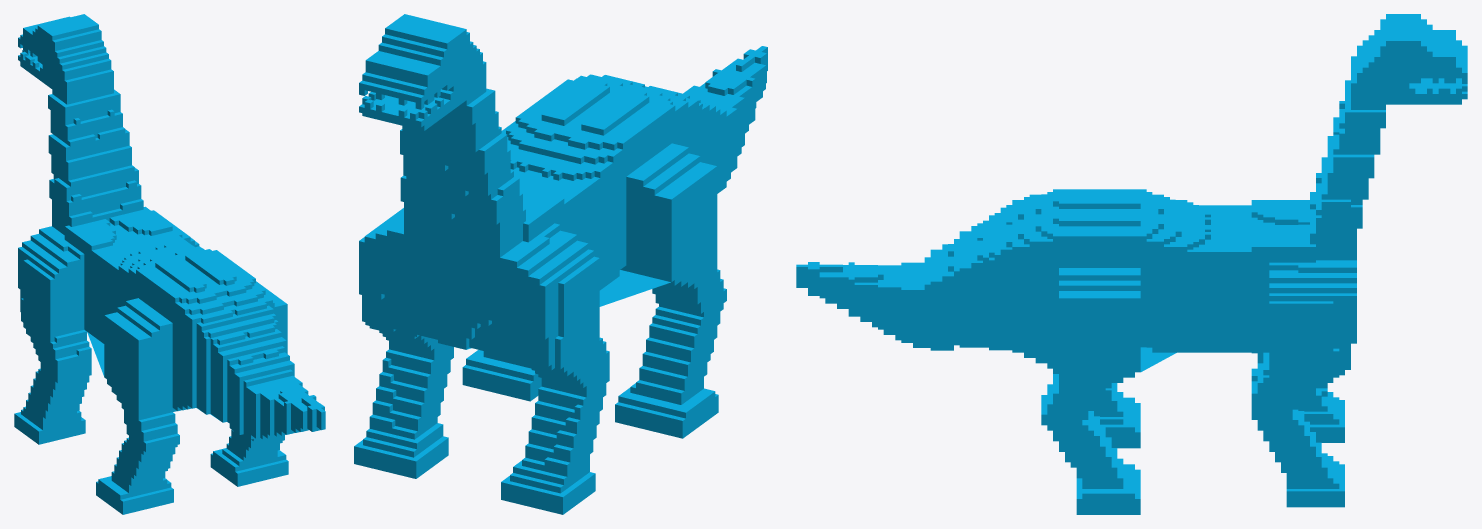
Rendered from Apatosaurus.fbx.
The picture shows the model from 3 angles, left to right: view 1: azimuth 30°, elevation 25°; view 2: azimuth 150°, elevation 25°; view 3: azimuth 270°, elevation 25°; orthographic projection. The views are drawn at different scales.
Parts seen in each view (by area): view 1: apatosaurus.001; view 2: apatosaurus.001; view 3: apatosaurus.001.
Boxes of the visible parts, box(x1,y1,x2,y2) form: apatosaurus.001: box(14, 14, 325, 514); apatosaurus.001: box(354, 14, 767, 514); apatosaurus.001: box(796, 14, 1467, 514).
Bounding box in the file's own units: 440 × 937 × 1298.
